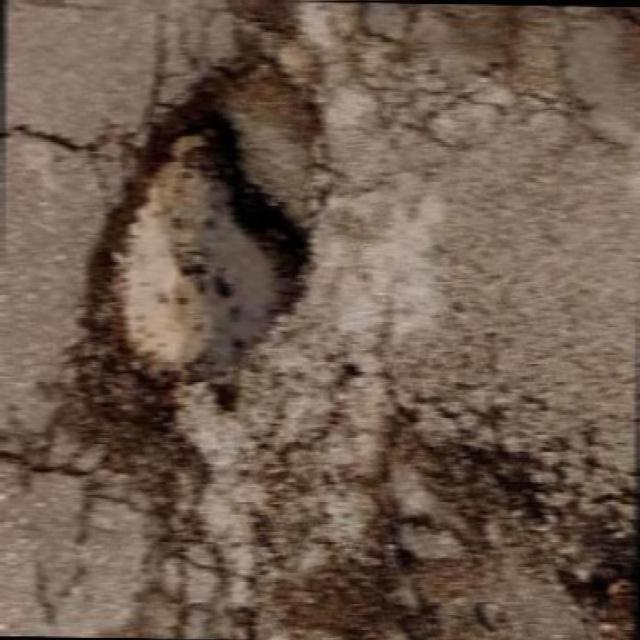Pothole: (0, 82, 339, 451), (332, 391, 640, 640)
